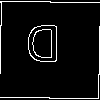D: (25, 24, 61, 72)
